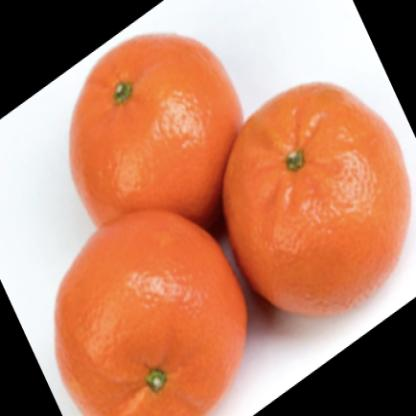fresh: (59, 32, 409, 416)
